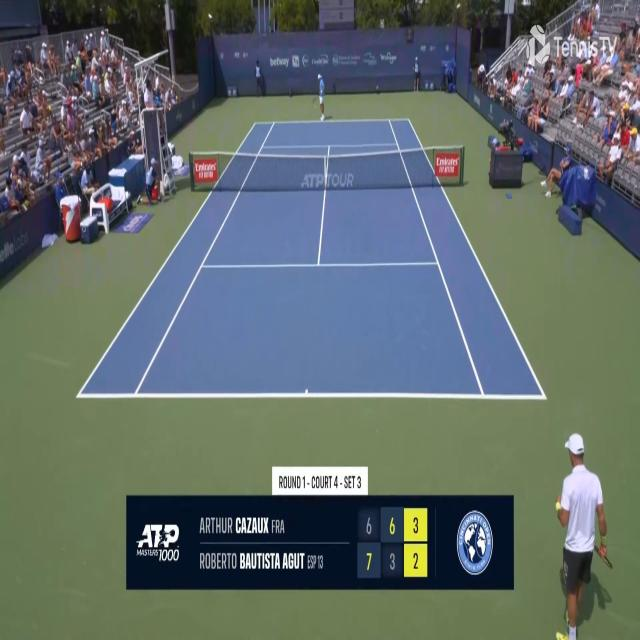tennis-player: (553, 428, 615, 637), (316, 72, 326, 124)
